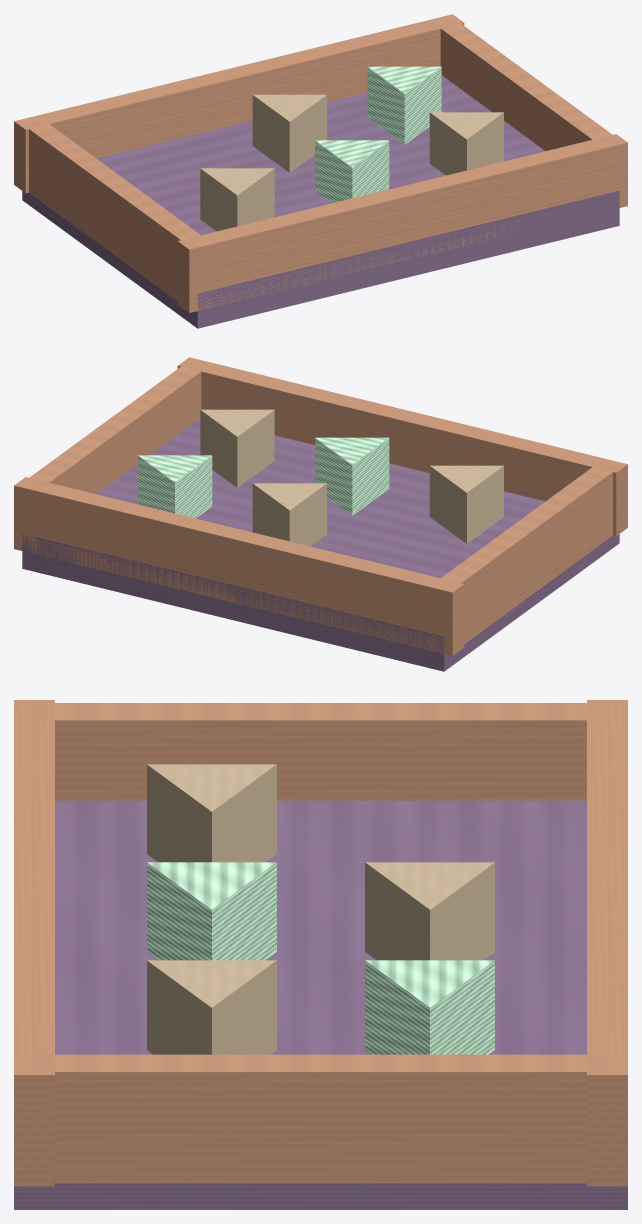
The model's file is atlas100-s087-a04.lod1.glb.
3 views of the same model, one above another, from view 1: azimuth 30°, elevation 25°; view 2: azimuth 150°, elevation 25°; view 3: azimuth 270°, elevation 25° (orthographic). The views are drawn at different scales.
Parts seen in each view (by area): view 1: atlas100-s087-a04:part-000, atlas100-s087-a04:part-002, atlas100-s087-a04:part-001, atlas100-s087-a04:part-003, atlas100-s087-a04:part-004, atlas100-s087-a04:part-007, atlas100-s087-a04:part-006, atlas100-s087-a04:part-010, atlas100-s087-a04:part-008, atlas100-s087-a04:part-009; view 2: atlas100-s087-a04:part-000, atlas100-s087-a04:part-001, atlas100-s087-a04:part-002, atlas100-s087-a04:part-003, atlas100-s087-a04:part-004, atlas100-s087-a04:part-008, atlas100-s087-a04:part-010, atlas100-s087-a04:part-009, atlas100-s087-a04:part-007, atlas100-s087-a04:part-006; view 3: atlas100-s087-a04:part-000, atlas100-s087-a04:part-004, atlas100-s087-a04:part-003, atlas100-s087-a04:part-001, atlas100-s087-a04:part-002, atlas100-s087-a04:part-006, atlas100-s087-a04:part-009, atlas100-s087-a04:part-008, atlas100-s087-a04:part-007, atlas100-s087-a04:part-010.
Boxes of the visible parts, left/top/right/bottom form: atlas100-s087-a04:part-000: left=22, top=75, right=619, bottom=328; atlas100-s087-a04:part-002: left=177, top=134, right=627, bottom=312; atlas100-s087-a04:part-001: left=14, top=14, right=464, bottom=193; atlas100-s087-a04:part-003: left=17, top=118, right=212, bottom=311; atlas100-s087-a04:part-004: left=430, top=15, right=624, bottom=207; atlas100-s087-a04:part-007: left=367, top=66, right=441, bottom=144; atlas100-s087-a04:part-006: left=252, top=94, right=326, bottom=172; atlas100-s087-a04:part-010: left=429, top=112, right=503, bottom=175; atlas100-s087-a04:part-008: left=200, top=168, right=274, bottom=231; atlas100-s087-a04:part-009: left=315, top=140, right=389, bottom=203; atlas100-s087-a04:part-000: left=22, top=418, right=619, bottom=671; atlas100-s087-a04:part-001: left=14, top=477, right=464, bottom=655; atlas100-s087-a04:part-002: left=177, top=357, right=627, bottom=536; atlas100-s087-a04:part-003: left=429, top=461, right=624, bottom=652; atlas100-s087-a04:part-004: left=17, top=358, right=211, bottom=554; atlas100-s087-a04:part-008: left=429, top=465, right=503, bottom=543; atlas100-s087-a04:part-010: left=200, top=409, right=274, bottom=487; atlas100-s087-a04:part-009: left=315, top=437, right=389, bottom=515; atlas100-s087-a04:part-007: left=138, top=455, right=212, bottom=518; atlas100-s087-a04:part-006: left=252, top=483, right=326, bottom=546; atlas100-s087-a04:part-000: left=14, top=800, right=627, bottom=1209; atlas100-s087-a04:part-004: left=14, top=1054, right=627, bottom=1183; atlas100-s087-a04:part-003: left=14, top=703, right=627, bottom=800; atlas100-s087-a04:part-001: left=587, top=700, right=627, bottom=1186; atlas100-s087-a04:part-002: left=14, top=700, right=54, bottom=1186; atlas100-s087-a04:part-006: left=365, top=862, right=494, bottom=960; atlas100-s087-a04:part-009: left=147, top=862, right=276, bottom=960; atlas100-s087-a04:part-008: left=147, top=764, right=276, bottom=862; atlas100-s087-a04:part-007: left=365, top=960, right=494, bottom=1054; atlas100-s087-a04:part-010: left=147, top=960, right=276, bottom=1054.
Size of the model in its own units: 1.39 by 0.2619 by 0.9621.
Materials: 4 (4 with a texture image).
